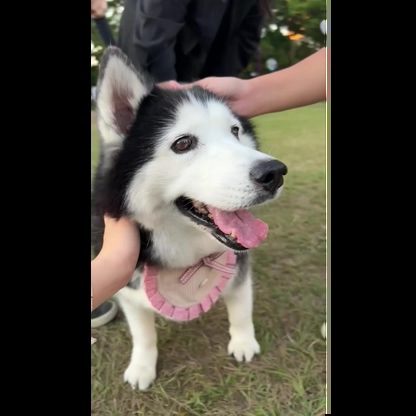husky: (96, 40, 290, 391)
